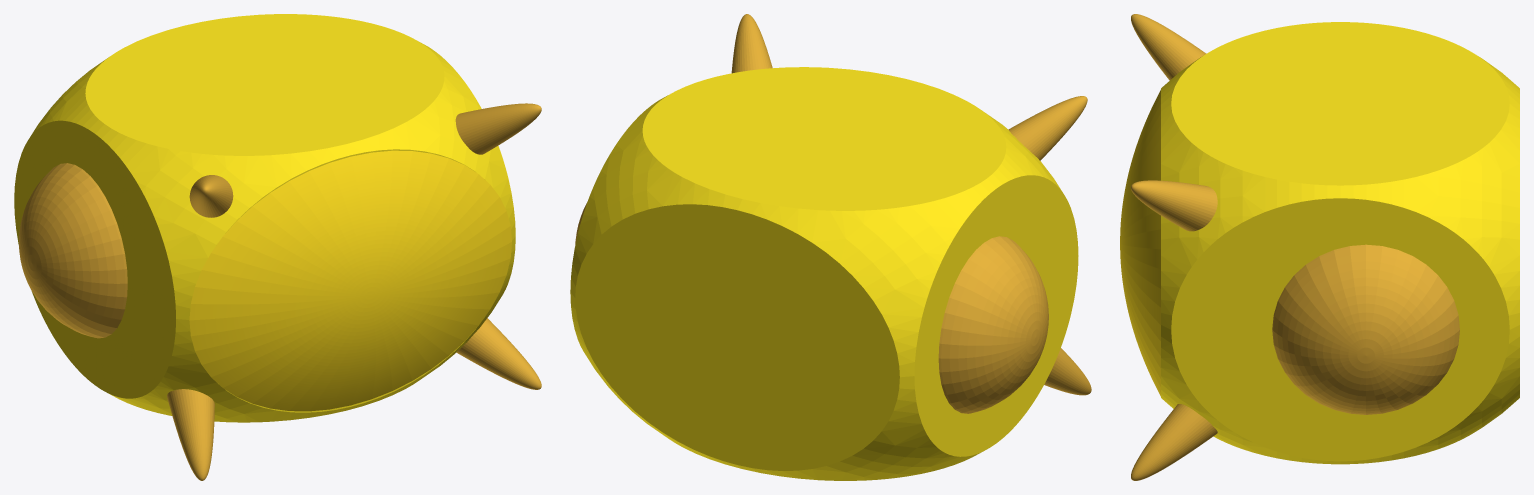
Rendered from tinker.obj.
3 renders of one model, left to right at view 1: azimuth 30°, elevation 25°; view 2: azimuth 150°, elevation 25°; view 3: azimuth 270°, elevation 25°, orthographic. The views are drawn at different scales.
Parts seen in each view (by area): view 1: obj_4, obj_3, obj_1, obj_6, obj_8, obj_5, obj_7; view 2: obj_4, obj_1, obj_7, obj_8, obj_6; view 3: obj_4, obj_0, obj_3, obj_5, obj_8, obj_7.
Part boxes in pixels (x1=…): obj_4: x1=14, y1=14, x2=515, y2=422; obj_3: x1=189, y1=150, x2=511, y2=411; obj_1: x1=19, y1=163, x2=127, y2=338; obj_6: x1=167, y1=389, x2=214, y2=480; obj_8: x1=455, y1=103, x2=541, y2=154; obj_5: x1=456, y1=318, x2=541, y2=389; obj_7: x1=189, y1=175, x2=233, y2=217; obj_4: x1=570, y1=67, x2=1078, y2=480; obj_1: x1=938, y1=236, x2=1048, y2=413; obj_7: x1=1008, y1=96, x2=1087, y2=160; obj_8: x1=731, y1=14, x2=772, y2=73; obj_6: x1=1044, y1=348, x2=1091, y2=395; obj_4: x1=1161, y1=22, x2=1519, y2=464; obj_0: x1=1272, y1=244, x2=1459, y2=414; obj_3: x1=1120, y1=90, x2=1160, y2=396; obj_5: x1=1131, y1=404, x2=1217, y2=480; obj_8: x1=1131, y1=180, x2=1217, y2=231; obj_7: x1=1131, y1=14, x2=1206, y2=80.
Bounding box in the file's own units: 52 × 33 × 39.
